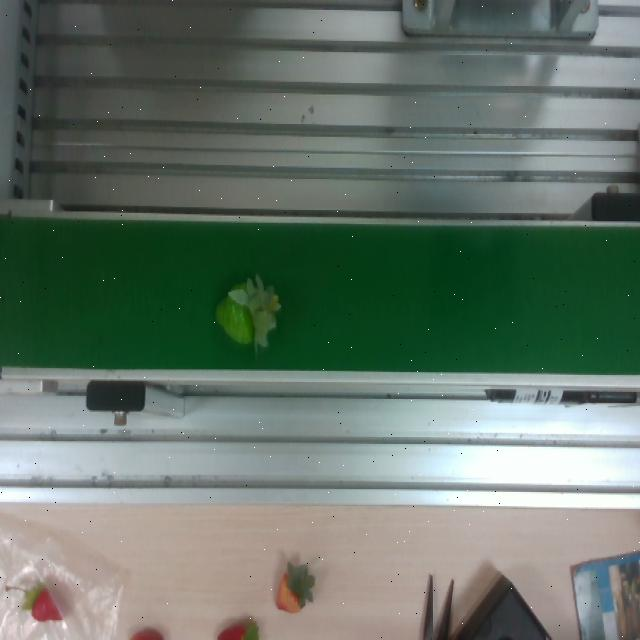Small Unripe Strawberry: (205, 270, 288, 360)
conveyor: (0, 208, 640, 394)
